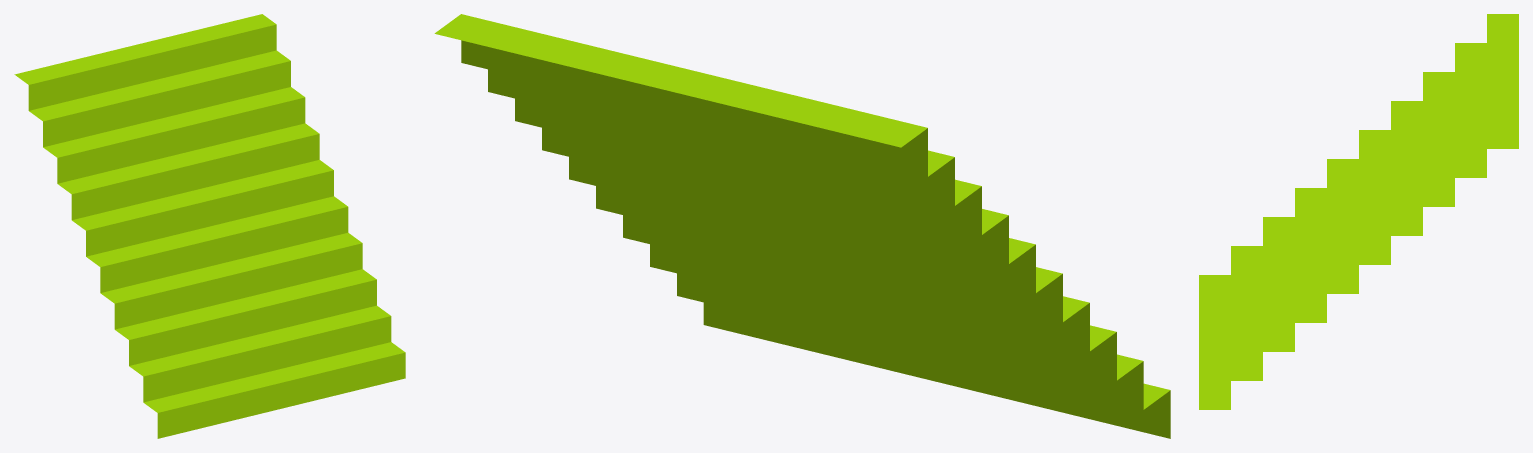
The model's file is Stairs.fbx.
3 renders of one model, left to right at view 1: azimuth 30°, elevation 25°; view 2: azimuth 150°, elevation 25°; view 3: azimuth 270°, elevation 25°, orthographic. The views are drawn at different scales.
Parts seen in each view (by area): view 1: Stairs; view 2: Stairs; view 3: Stairs.
Boxes of the visible parts, x1,y1,x2,y2 form: Stairs: (14, 14, 405, 438); Stairs: (434, 14, 1170, 438); Stairs: (1199, 14, 1518, 409).
Size of the model in its own units: 200 by 200 by 200.
